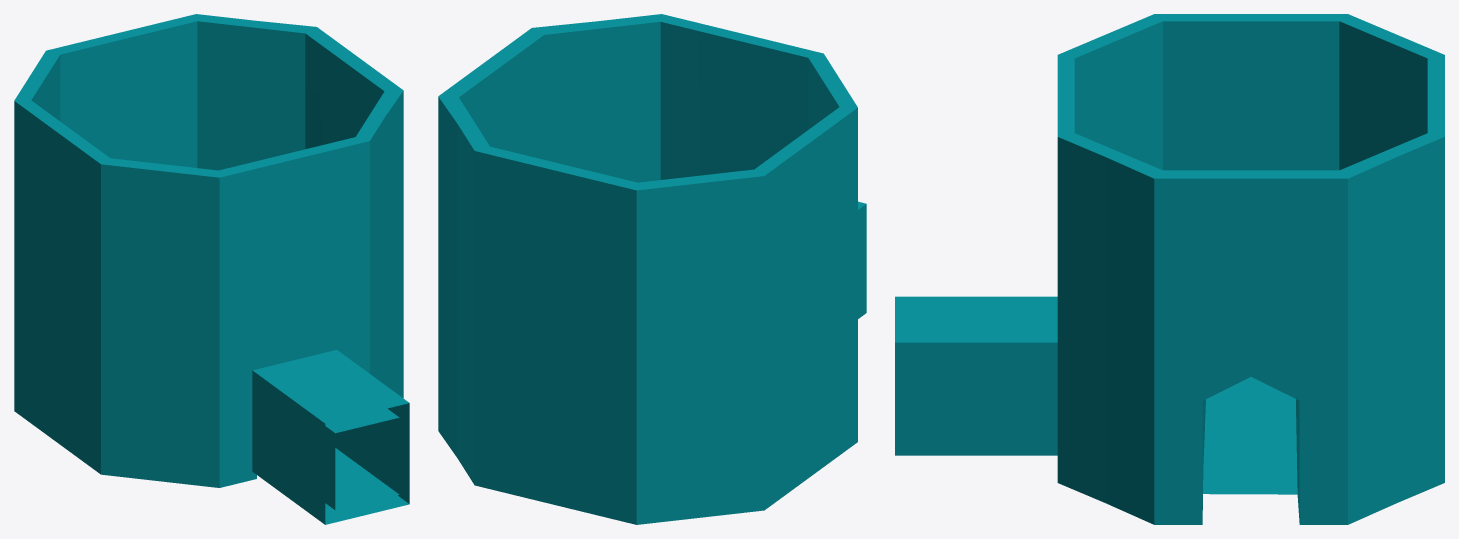
Rendered from Room_Walls.fbx.
3 views of the same model, side by side, from view 1: azimuth 30°, elevation 25°; view 2: azimuth 150°, elevation 25°; view 3: azimuth 270°, elevation 25° (orthographic). The views are drawn at different scales.
Parts seen in each view (by area): view 1: Room_2, Corridor; view 2: Room_2, Corridor; view 3: Room_2, Corridor.
Part boxes in pixels (<box>): Room_2: <box>14,14,403,487</box>; Corridor: <box>252,350,409,524</box>; Room_2: <box>438,14,857,524</box>; Corridor: <box>858,201,866,318</box>; Room_2: <box>1057,14,1444,524</box>; Corridor: <box>895,296,1057,455</box>.
Bounding box in the file's own units: 0.0849 × 0.0832 × 0.1197.
